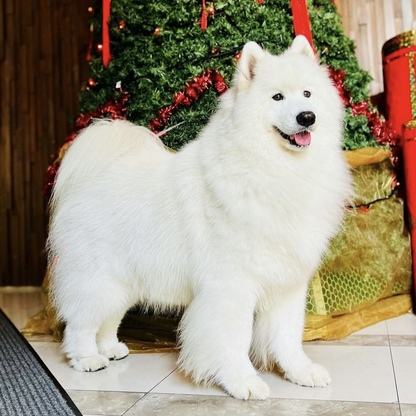samoyed: (41, 30, 359, 405)
